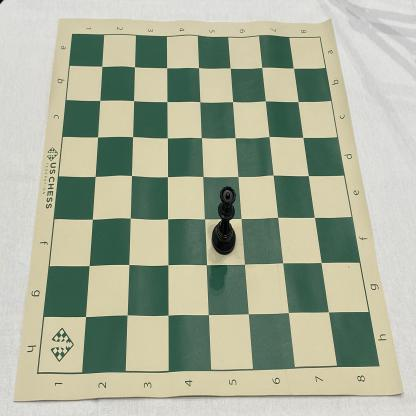black-queen: (211, 186, 236, 256)
